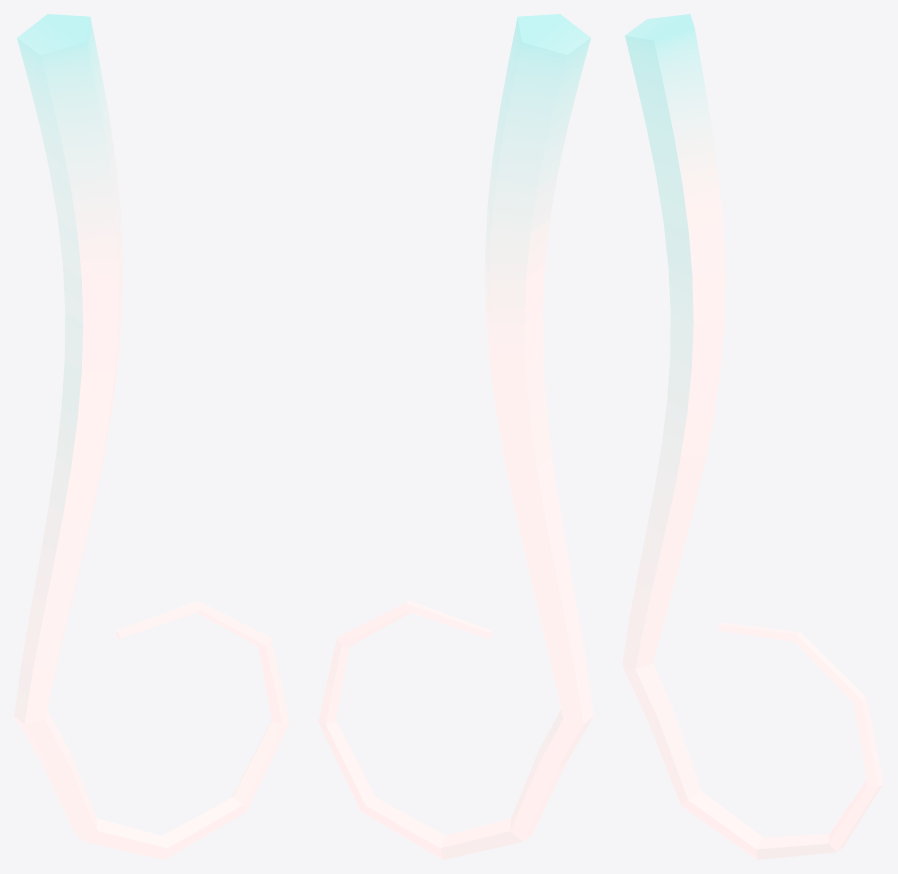
File: SM_JellyTentacle.fbx
3 views of the same model, side by side, from view 1: azimuth 30°, elevation 25°; view 2: azimuth 150°, elevation 25°; view 3: azimuth 330°, elevation 25° (orthographic). The views are drawn at different scales.
Visible parts, largest first — view 1: SM_JellyTentacle; view 2: SM_JellyTentacle; view 3: SM_JellyTentacle.
Boxes of the visible parts, left/top/right/bottom form: SM_JellyTentacle: left=14, top=14, right=289, bottom=859; SM_JellyTentacle: left=318, top=14, right=593, bottom=859; SM_JellyTentacle: left=622, top=14, right=883, bottom=859.
Size of the model in its own units: 23.73 by 5.9 by 72.67.
